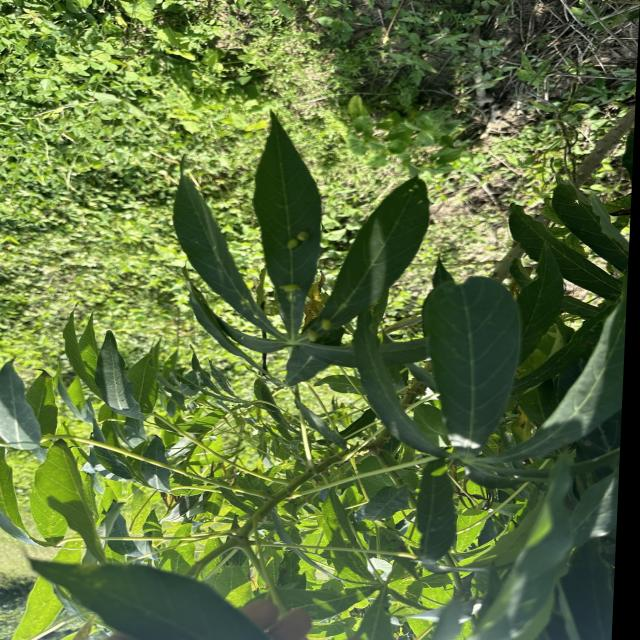Maleza: (229, 0, 578, 132), (0, 0, 245, 167)
Mosca: (299, 311, 341, 358), (280, 220, 316, 251), (271, 274, 293, 296)
